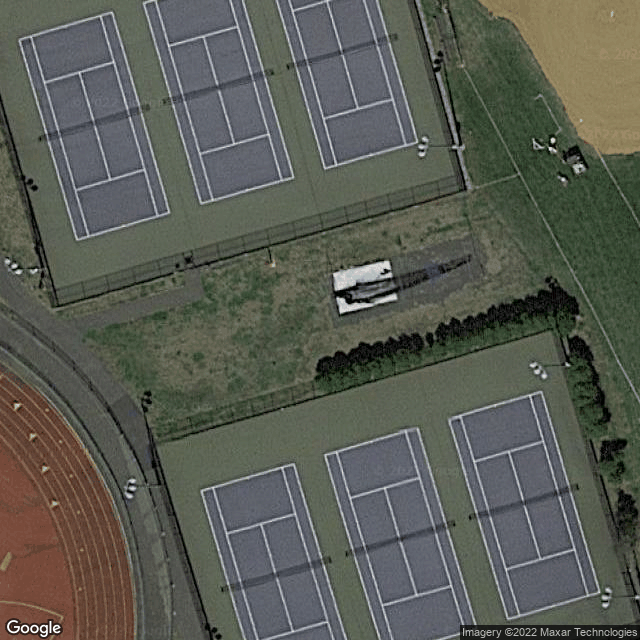Court: (15, 11, 171, 242), (447, 388, 601, 621), (325, 426, 480, 640), (139, 1, 295, 204), (200, 463, 350, 640), (274, 0, 420, 171)
